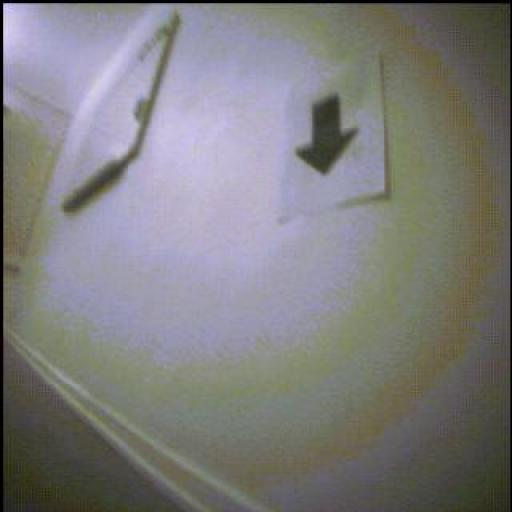Arrow: (297, 96, 358, 176)
